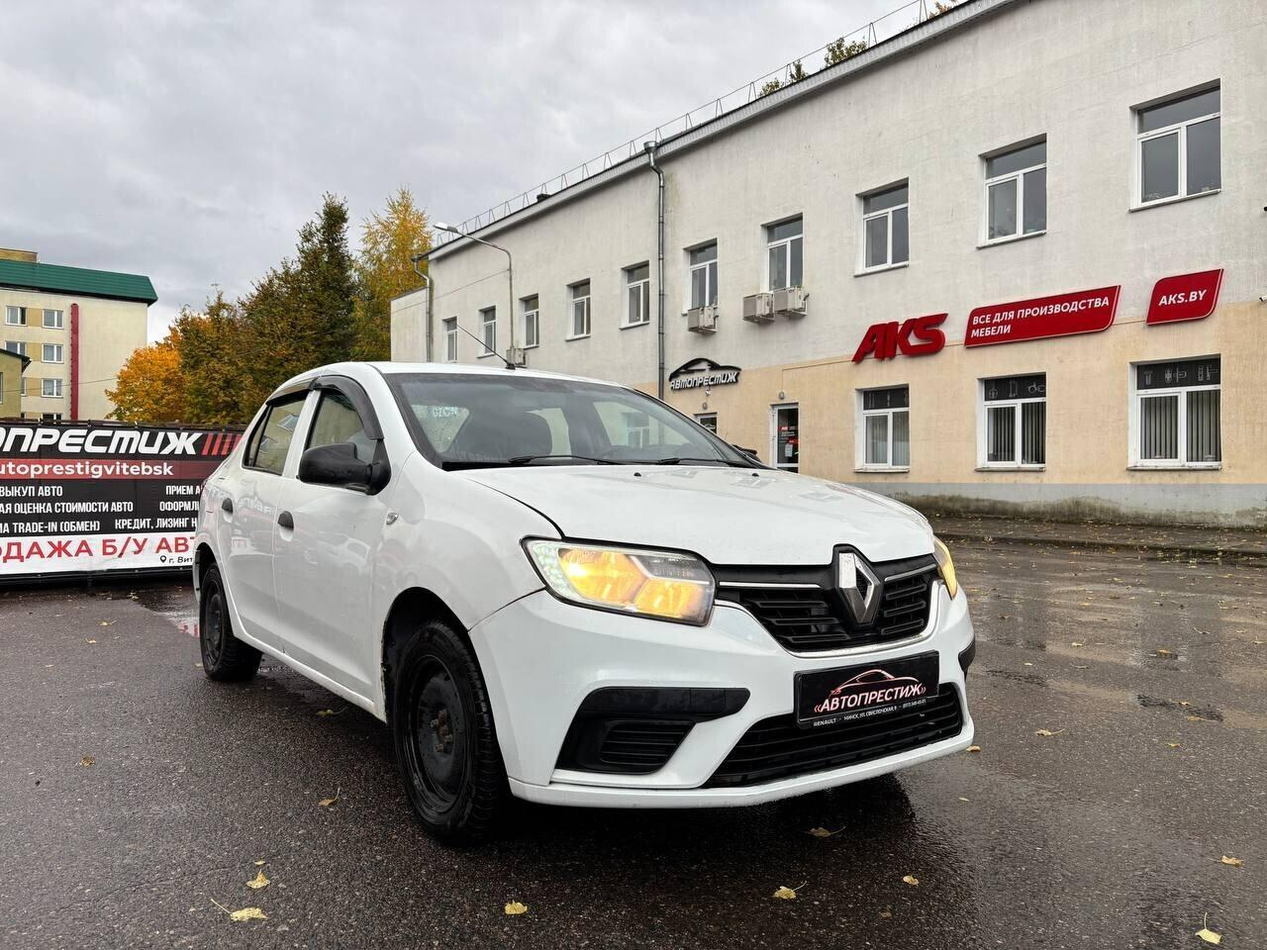Logan_2018: (188, 354, 985, 841)
